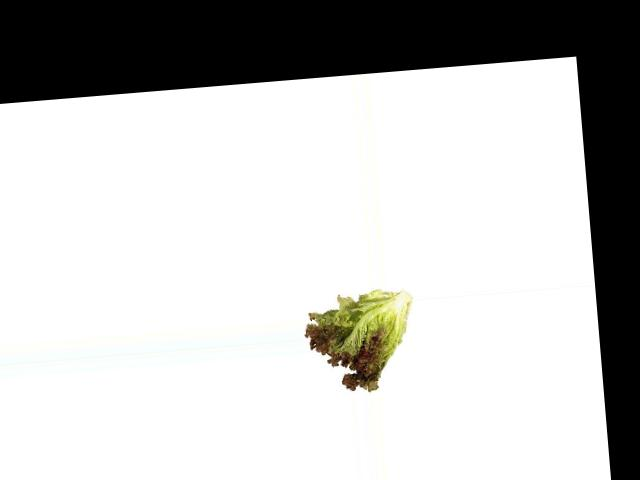lettuce: (301, 288, 417, 395)
